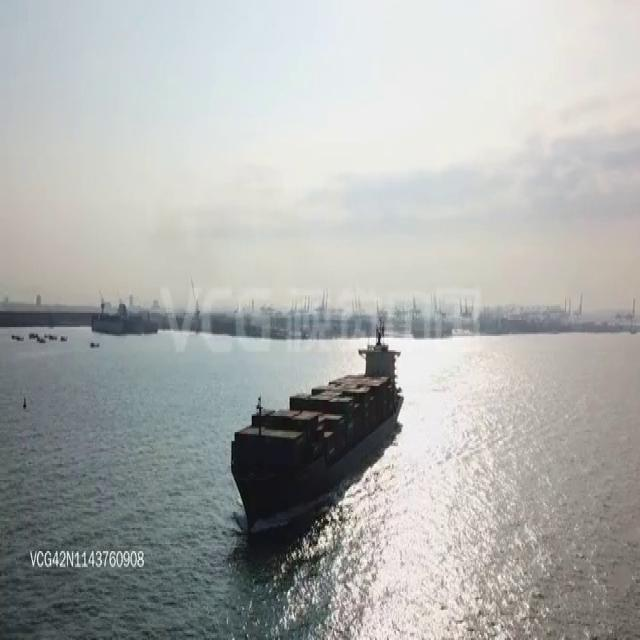cargoship: (226, 337, 406, 535)
